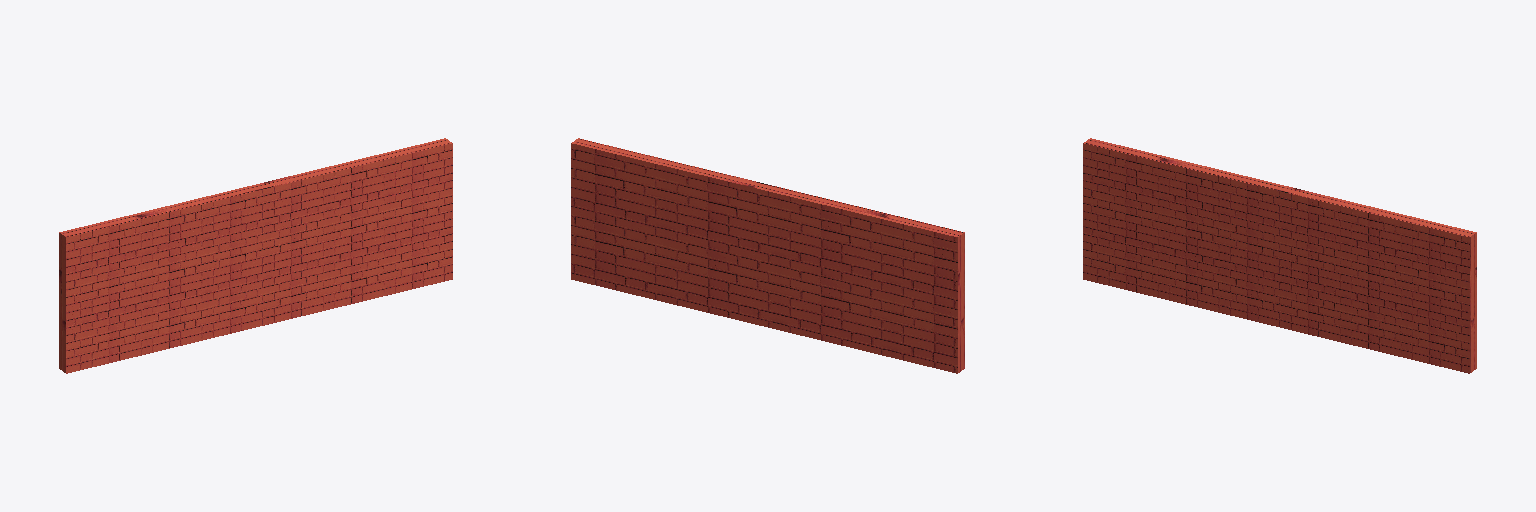
3 views of the same model, side by side, from view 1: azimuth 30°, elevation 25°; view 2: azimuth 150°, elevation 25°; view 3: azimuth 330°, elevation 25° (orthographic).
Parts seen in each view (by area): view 1: Cube.011_Cube.012; view 2: Cube.011_Cube.012; view 3: Cube.011_Cube.012.
Boxes of the visible parts, <box> form: Cube.011_Cube.012: <box>59,138,452,373</box>; Cube.011_Cube.012: <box>571,138,964,373</box>; Cube.011_Cube.012: <box>1083,138,1476,373</box>.
Size of the model in its own units: 25.56 by 8.62 by 0.8.
Materials: 1 (1 with a texture image).